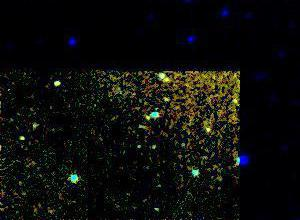star: (42, 71, 72, 101)
